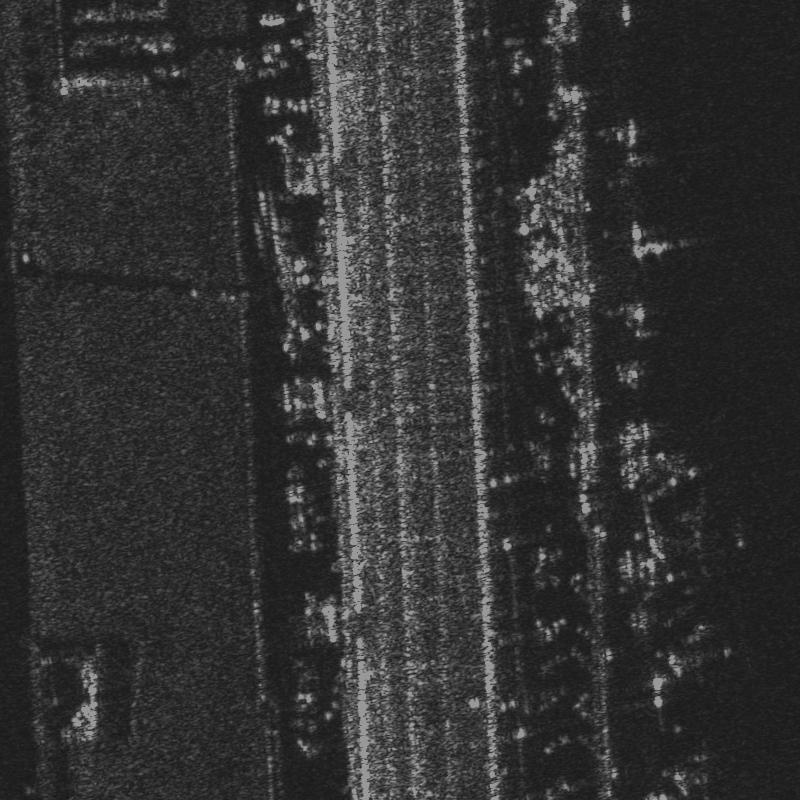A220: (642, 481, 753, 587)
other: (659, 611, 745, 695)
